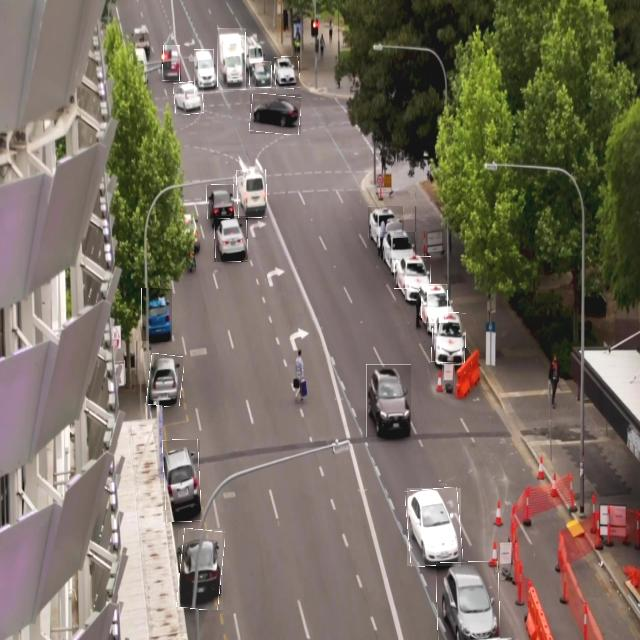Car: (437, 561, 500, 640), (407, 488, 461, 566), (178, 529, 223, 610), (366, 364, 411, 437), (163, 440, 200, 522), (250, 94, 301, 134), (148, 354, 183, 407), (141, 288, 172, 342), (432, 313, 465, 363), (214, 216, 248, 262), (236, 170, 267, 218), (395, 256, 431, 289), (368, 206, 404, 238), (422, 284, 448, 323), (380, 232, 416, 260), (174, 82, 204, 114), (207, 185, 234, 219), (194, 49, 214, 94), (275, 57, 300, 89), (163, 45, 180, 81), (250, 61, 272, 88)
Truck: (218, 28, 246, 90)
